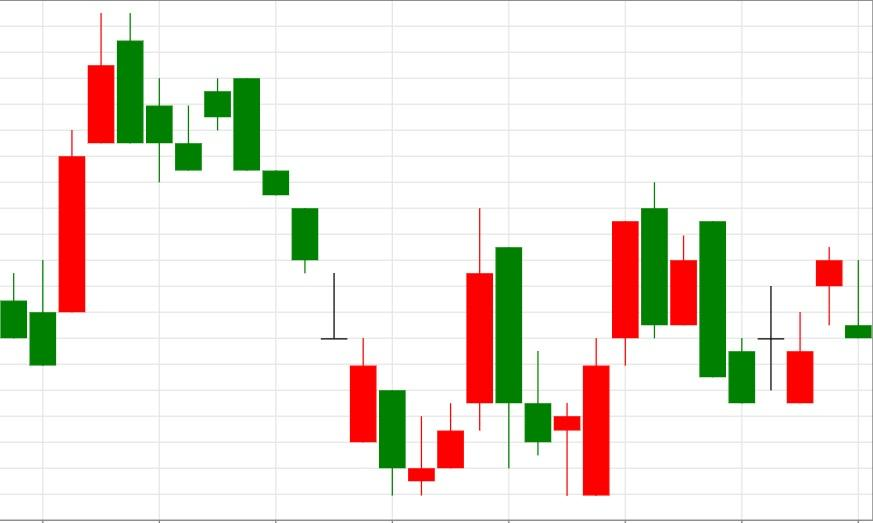bearish_engulfing_fall: (30, 13, 145, 367)
three_black_crows_fall: (175, 79, 319, 274)
